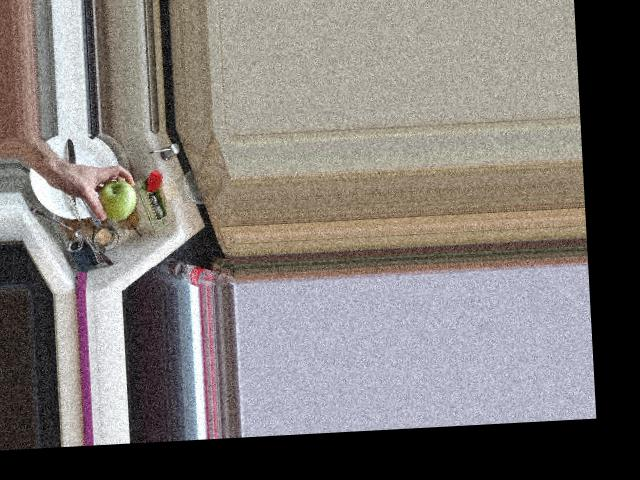apple: (92, 176, 138, 222)
